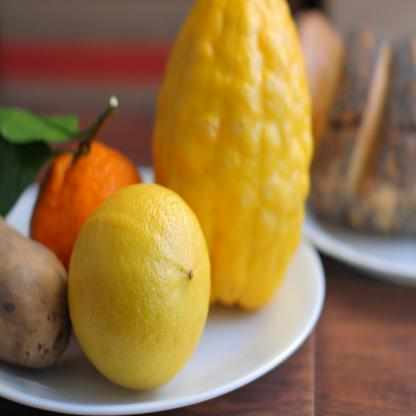lemon: (67, 182, 211, 390)
